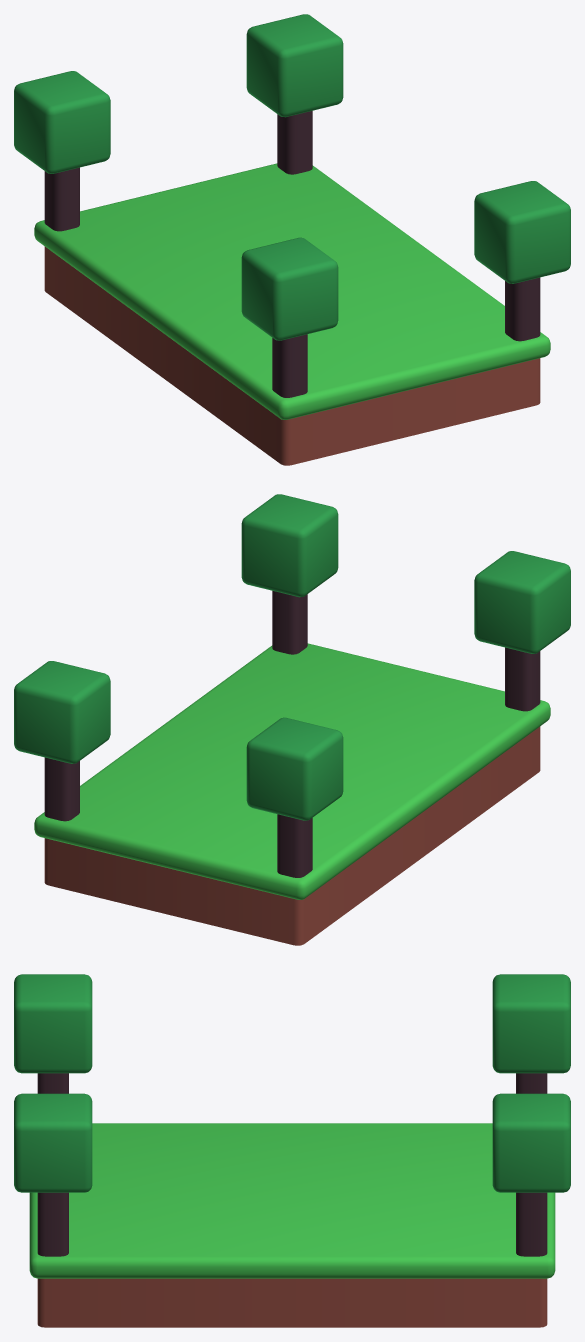
File: GroundLevelSummer.fbx
3 views of the same model, one above another, from view 1: azimuth 30°, elevation 25°; view 2: azimuth 150°, elevation 25°; view 3: azimuth 270°, elevation 25° (orthographic). The views are drawn at different scales.
Parts seen in each view (by area): view 1: GroundLevelSummer; view 2: GroundLevelSummer; view 3: GroundLevelSummer.
Boxes of the visible parts, <box> form: GroundLevelSummer: <box>14,14,570,465</box>; GroundLevelSummer: <box>14,494,570,945</box>; GroundLevelSummer: <box>14,974,570,1327</box>.
Size of the model in its own units: 920 by 600 by 1420.
